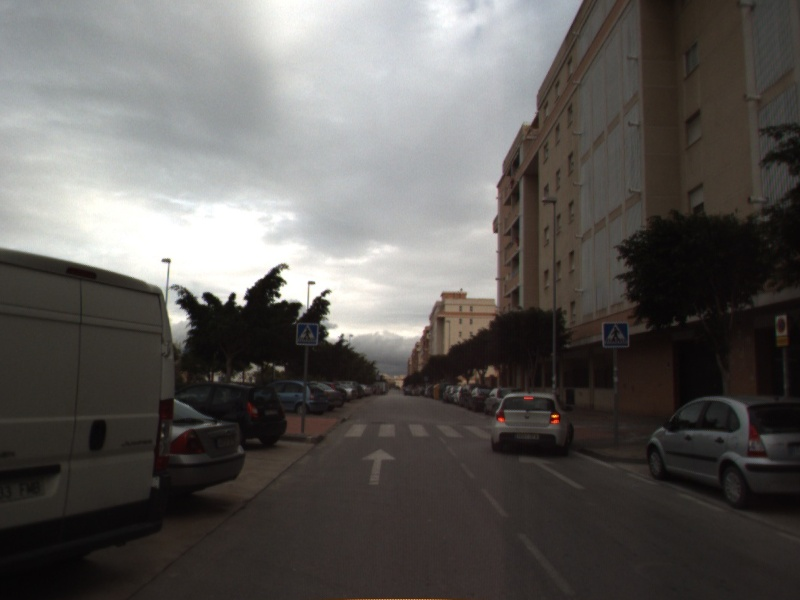STRAIGHT: (516, 453, 588, 491), (360, 446, 398, 486)
